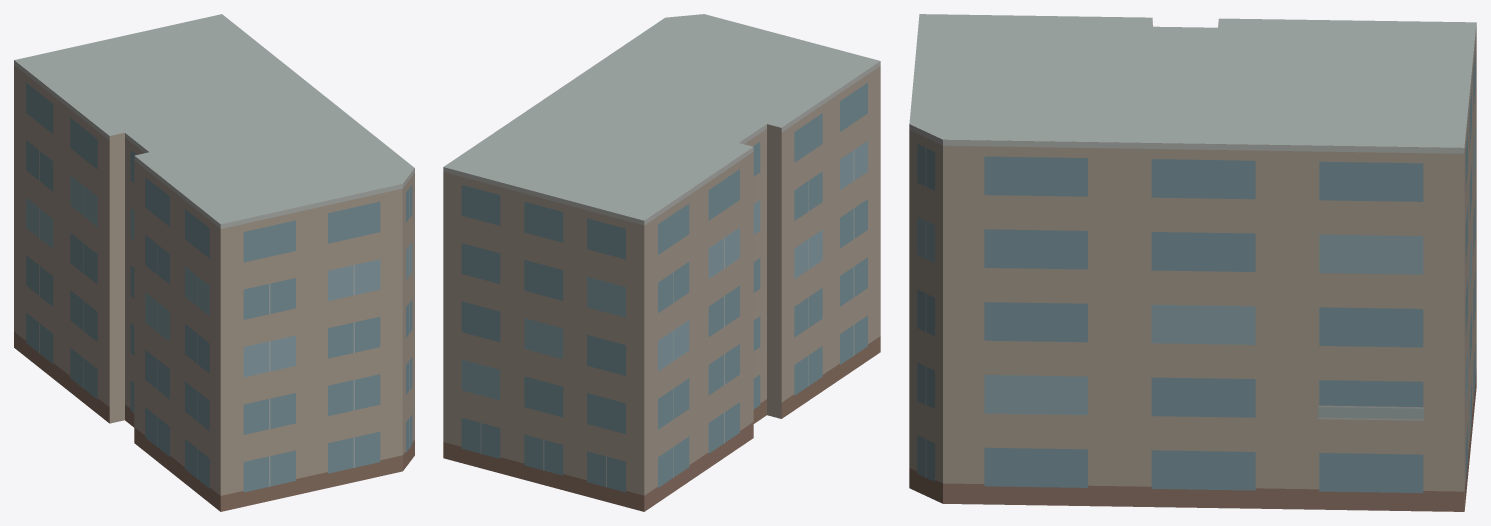
The model's file is survey-upis-32949798.glb.
3 views of the same model, side by side, from view 1: azimuth 30°, elevation 25°; view 2: azimuth 150°, elevation 25°; view 3: azimuth 270°, elevation 25° (orthographic). The views are drawn at different scales.
Visible parts, largest first — view 1: survey-upis-32949798.tmp; view 2: survey-upis-32949798.tmp; view 3: survey-upis-32949798.tmp.
Part boxes in pixels (x1,y1,x2,y2): survey-upis-32949798.tmp: (14,14,414,511); survey-upis-32949798.tmp: (443,14,880,511); survey-upis-32949798.tmp: (909,14,1476,511).
Bounding box in the file's own units: 11.68 × 14.8 × 20.91.
